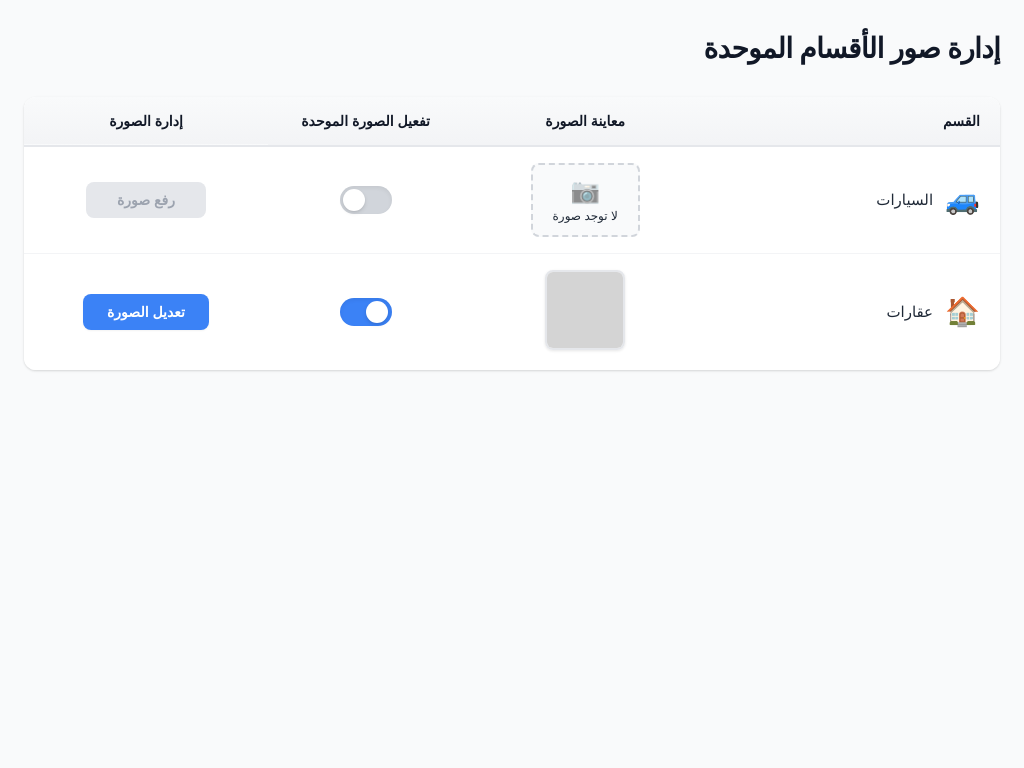
UnifiedImagesPage › Upload Modal › opens modal when upload button is clicked
Expected: the text "عقارات" is shown, left=886, top=303, right=933, bottom=321
What coordinates should you click on to do the following:
click the button "تعديل الصورة"
I would click on:
 (146, 312)
Its box is left=83, top=294, right=209, bottom=330.
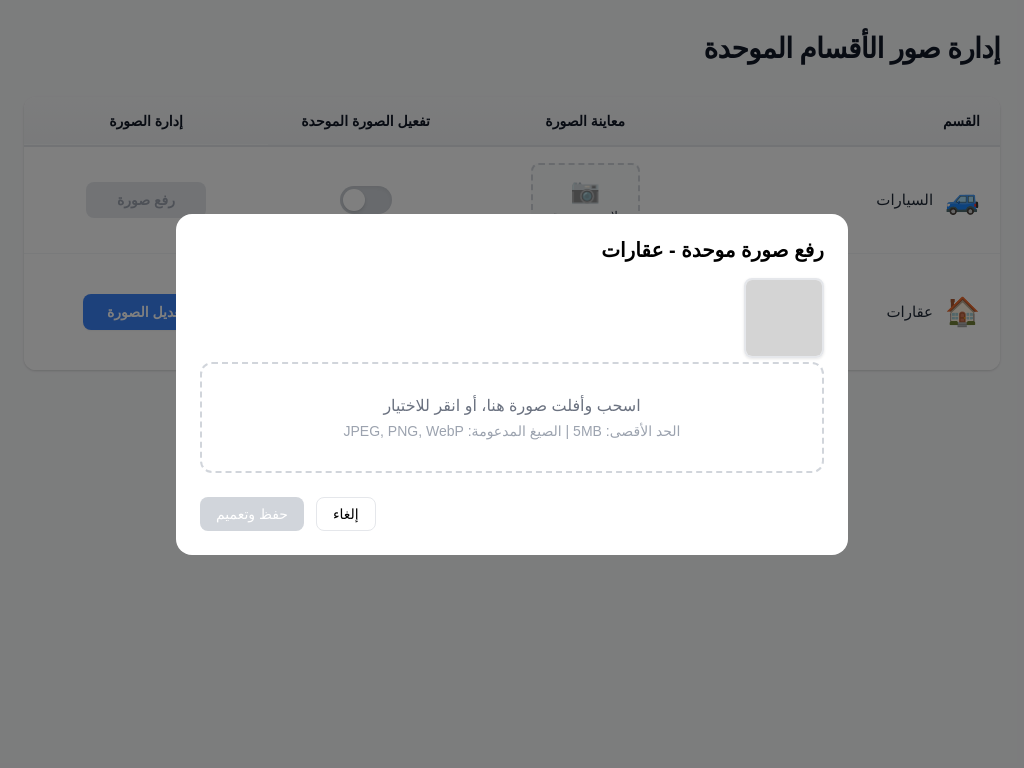
Now the heading "رفع صورة موحدة - عقارات" is shown, box left=601, top=238, right=824, bottom=260
